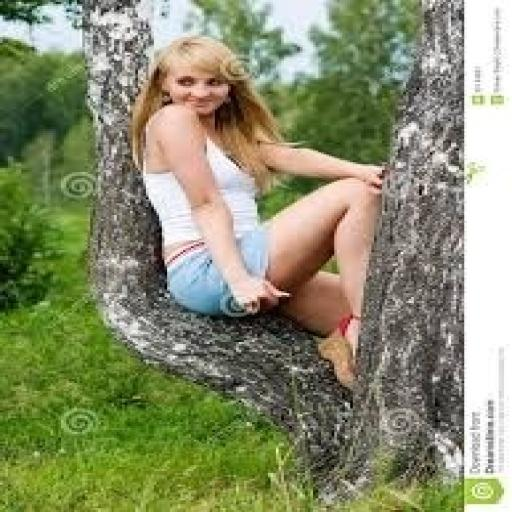sitting: (128, 33, 388, 393)
